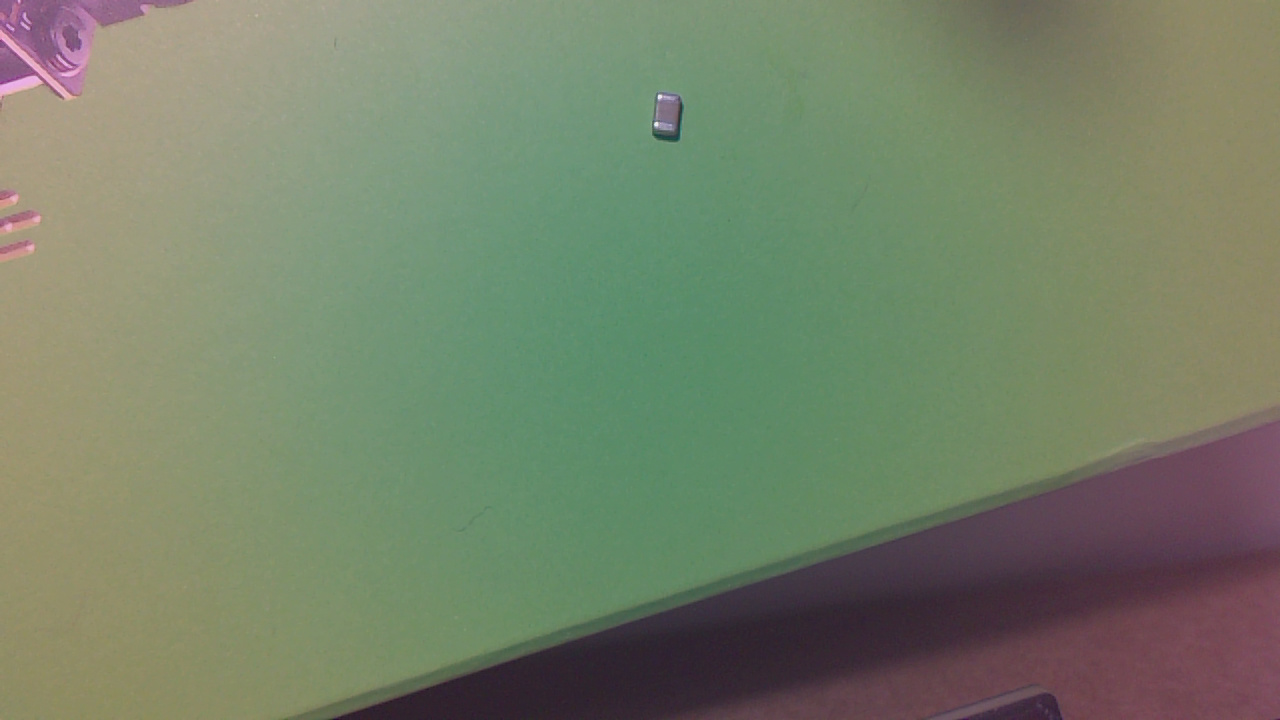Condensator: (654, 96, 689, 145)
